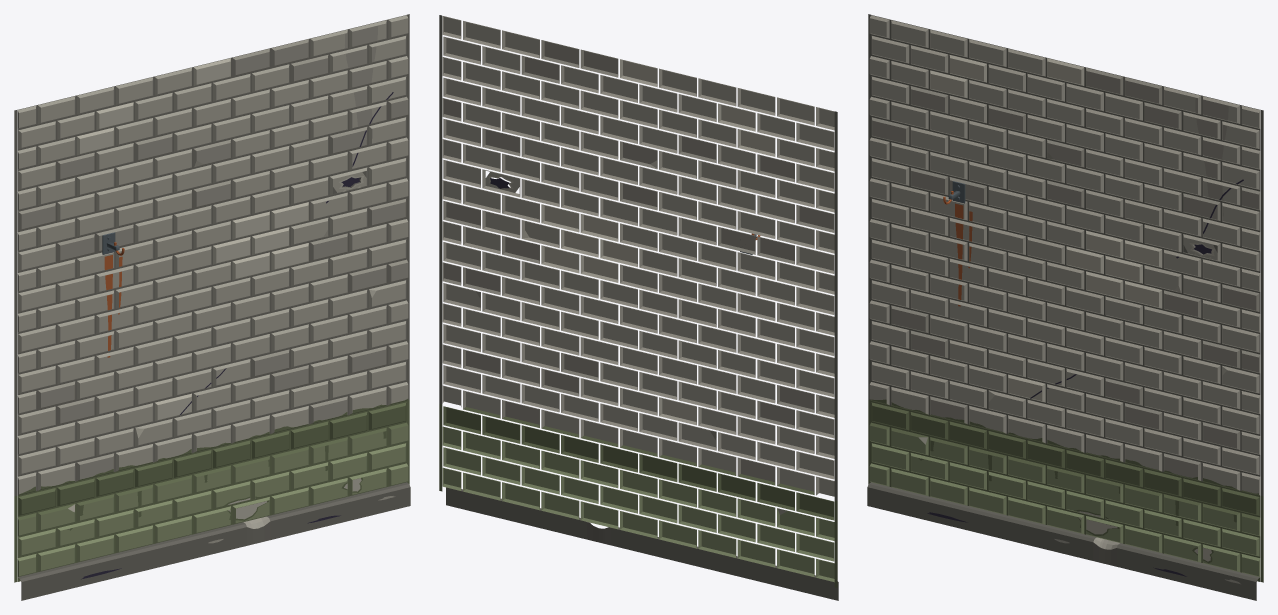
File: wall_panel_b.glb
3 views of the same model, side by side, from view 1: azimuth 30°, elevation 25°; view 2: azimuth 150°, elevation 25°; view 3: azimuth 330°, elevation 25° (orthographic).
Parts seen in each view (by area): view 1: Wall; view 2: Wall; view 3: Wall.
Boxes of the visible parts, bbox=[...] form: Wall: bbox=[14, 14, 410, 600]; Wall: bbox=[439, 15, 838, 600]; Wall: bbox=[867, 14, 1263, 600].
Size of the model in its own units: 5.08 by 6 by 0.378.
